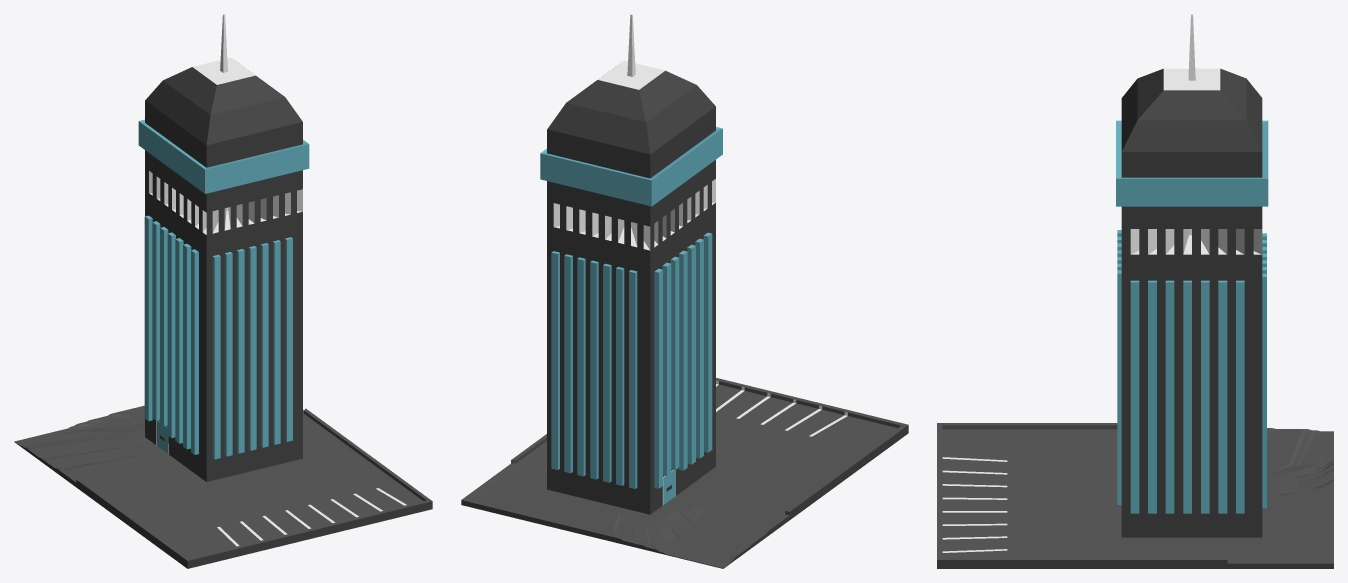
Rendered from skyscraper1.obj.
3 renders of one model, left to right at view 1: azimuth 30°, elevation 25°; view 2: azimuth 150°, elevation 25°; view 3: azimuth 270°, elevation 25°, orthographic. The views are drawn at different scales.
Visible parts, largest first — view 1: Cube.001; view 2: Cube.001; view 3: Cube.001.
Part boxes in pixels (x1,y1,x2,y2): Cube.001: (14, 14, 432, 568); Cube.001: (461, 14, 908, 568); Cube.001: (937, 14, 1333, 568).
Size of the model in its own units: 10.37 by 17.67 by 12.71.
